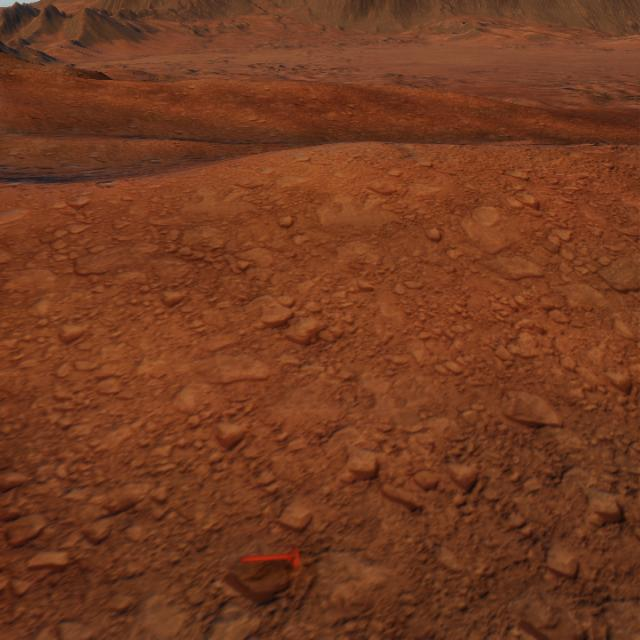newhammer: (241, 543, 299, 568)
